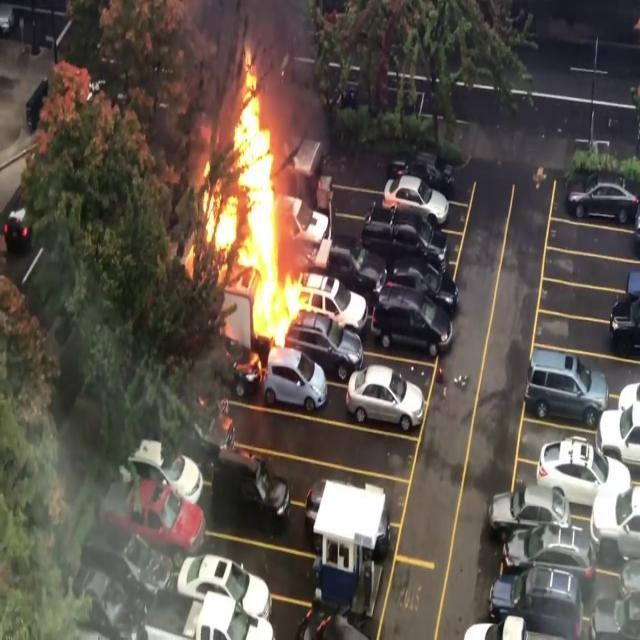Fire: (188, 46, 316, 357)
